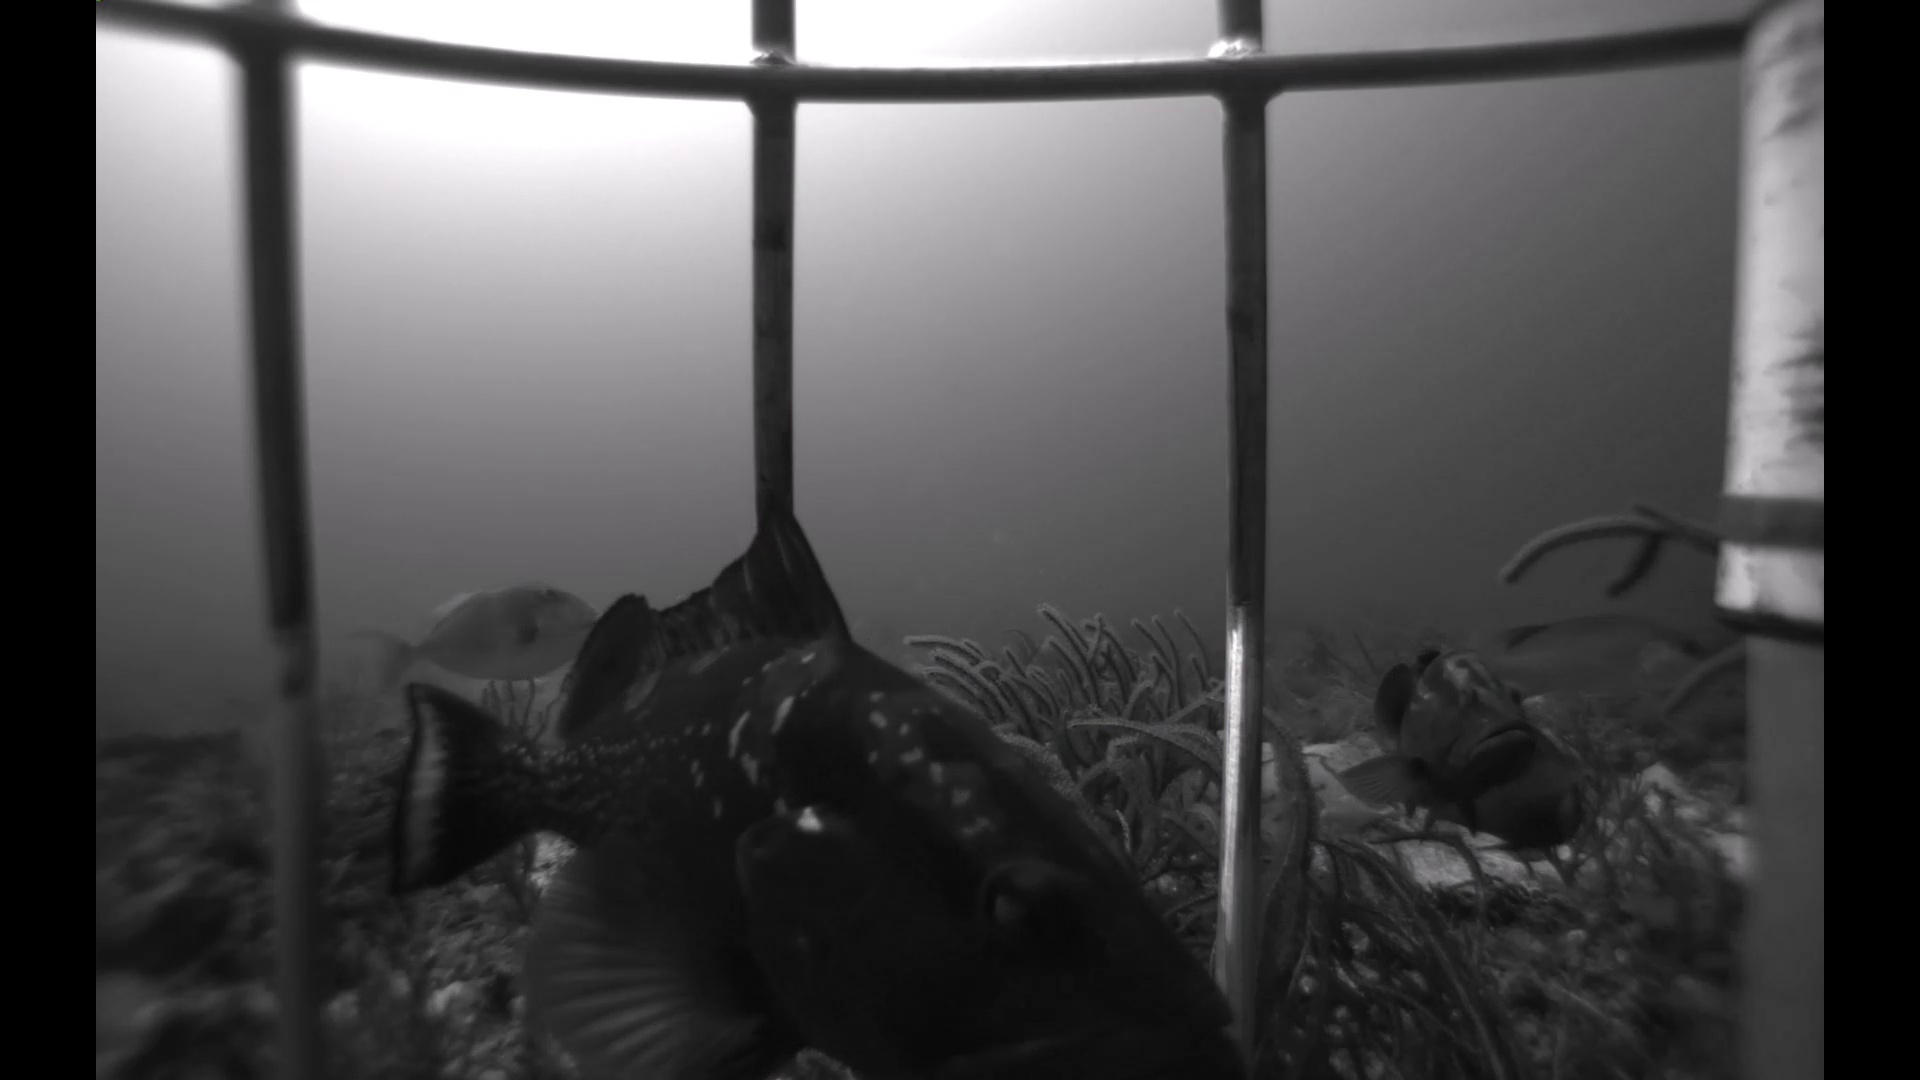BALISTESCAPRISCUS-189030502: (339, 550, 604, 712)
EPINEPHELUSMORIO-170021211: (360, 520, 1242, 1080), (1324, 637, 1545, 829)
LACHNOLAIMUSMAXIMUS-170281801: (1251, 745, 1412, 845)
LUTJANUSGRISEUS-170151109: (1408, 603, 1743, 731)
POMACANTHUSARCUATUS-170290201: (1419, 723, 1604, 866), (1712, 760, 1753, 812)
